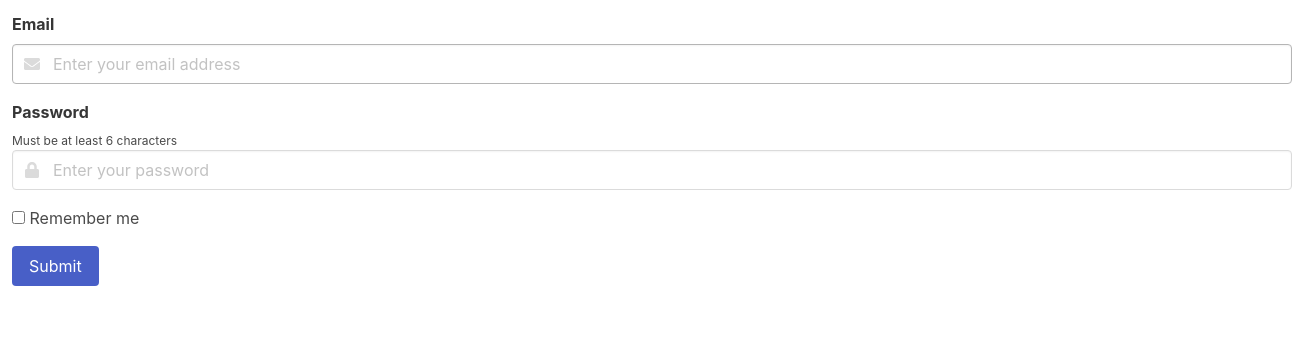
Test: <Login /> › email › should display an error message when the email field is empty
The image size is (1304, 347).
What coordinates should you click on to do the following:
click the button "Submit"
I would click on:
 (55, 266)
Its box is 12,246 -> 99,286.
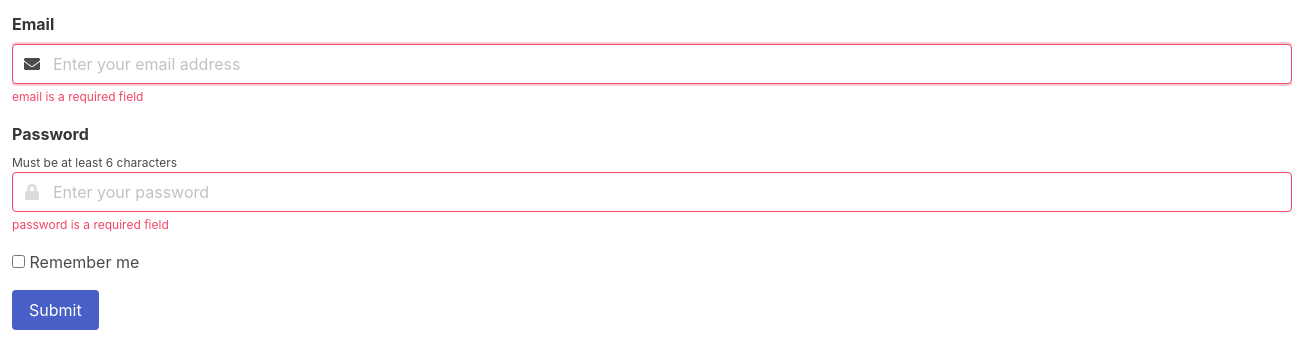
Result: the number of messages is 2 at 12,89 -> 144,104; 12,217 -> 169,232
